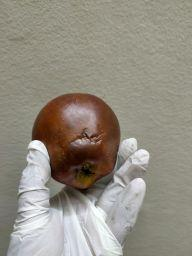apple: (23, 86, 134, 200)
